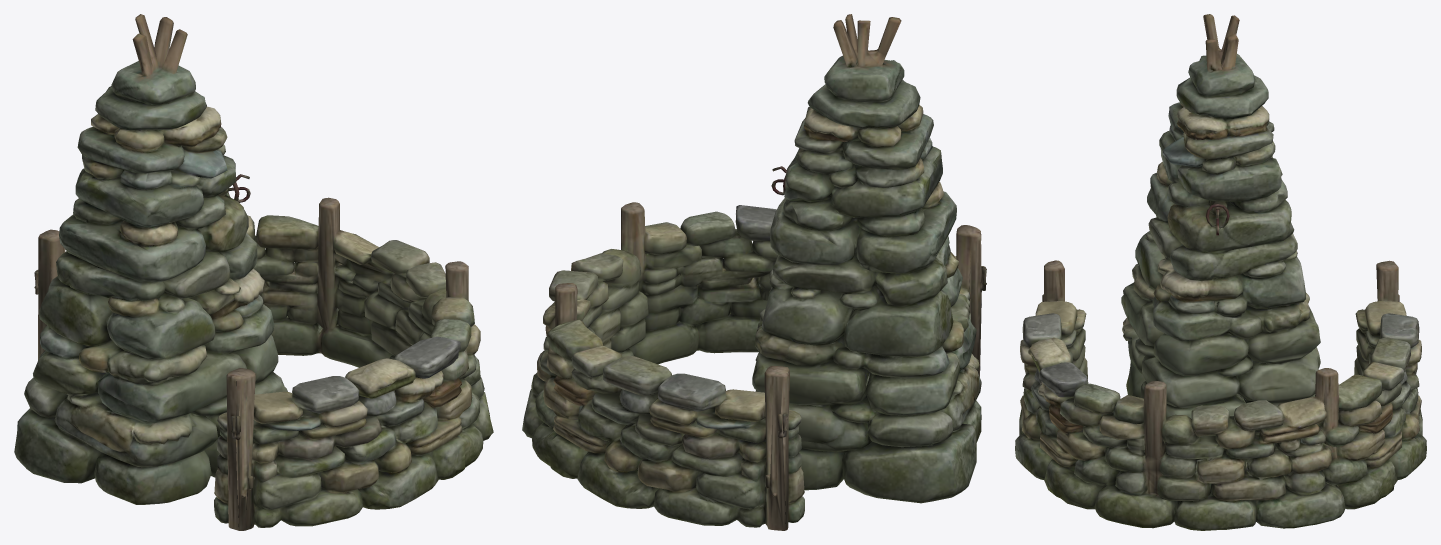
The model's file is lm_fold_cairn.glb.
3 renders of one model, left to right at view 1: azimuth 30°, elevation 25°; view 2: azimuth 150°, elevation 25°; view 3: azimuth 270°, elevation 25°, orthographic. The views are drawn at different scales.
Parts seen in each view (by area): view 1: lm_fold_cairn-col; view 2: lm_fold_cairn-col; view 3: lm_fold_cairn-col.
Boxes of the visible parts, bbox=[...] form: lm_fold_cairn-col: bbox=[14, 14, 493, 530]; lm_fold_cairn-col: bbox=[522, 14, 986, 530]; lm_fold_cairn-col: bbox=[1015, 14, 1426, 530].
Bounding box in the file's own units: 2.5 × 2.5 × 2.43.
Materials: 1 (1 with a texture image).
